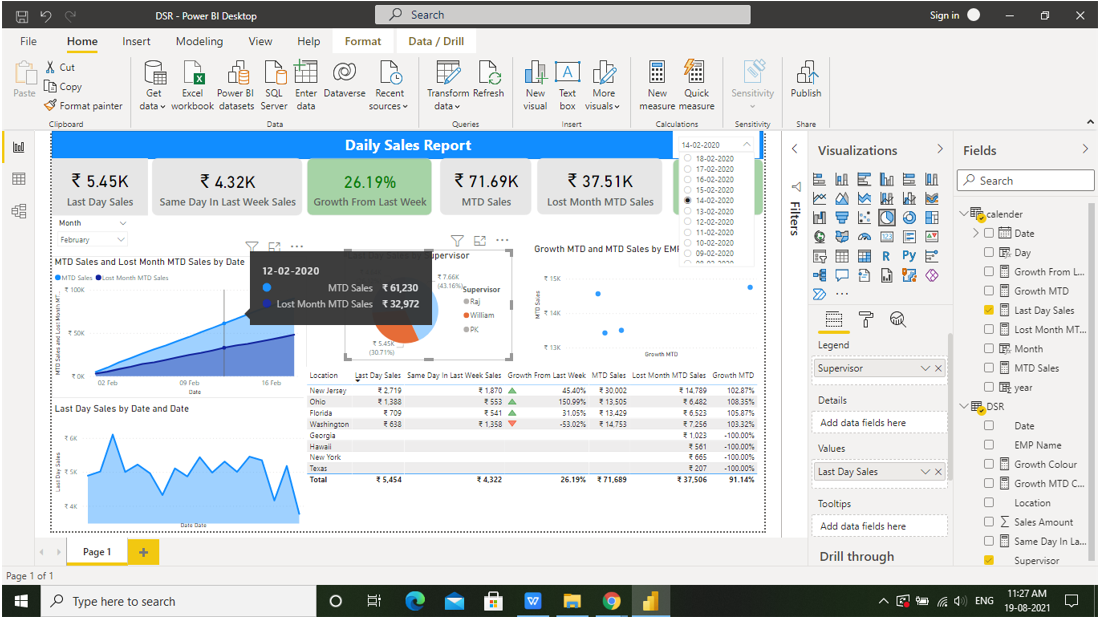

The dashboard page shown, as its layout file describes it:
{"tool":"powerbi","page":{"name":"Page 1","canvas":[1280,720],"ordinal":0},"visuals":[{"type":"shape","box":[0,0,1279.8,50.5],"z":0},{"type":"card","fields":{"Values":["calender.last day sales"]},"box":[0,49.7,173.2,103.3],"z":0,"group":"g1"},{"type":"textbox","box":[453.1,0,375.2,57.7],"z":1000},{"type":"card","fields":{"Values":["DSR.same day in last week sales"]},"box":[180.8,49.7,270,103.3],"z":1000,"group":"g1"},{"type":"card","fields":{"Values":["calender.Growth from last week"]},"box":[458.4,49.7,224.5,103.3],"z":2000,"group":"g1"},{"type":"group","id":"g1","title":"Group 1","box":[0,49.1,1279.8,103.9],"z":2000},{"type":"card","fields":{"Values":["calender.MTD Sales"]},"box":[699,49.1,164.4,102.1],"z":3000,"group":"g1"},{"type":"slicer","fields":{"Values":["calender.Date"]},"box":[1116.8,0,155.8,49.1],"z":3000},{"type":"card","fields":{"Values":["calender.Lost Month MTD Sales"]},"box":[873.3,49.7,224.5,101],"z":4000,"group":"g1"},{"type":"areaChart","fields":{"Category":["calender.Date"],"Y":["calender.MTD Sales","calender.Lost Month MTD Sales"]},"box":[0,225.1,458.8,255.4],"z":4000},{"type":"card","fields":{"Values":["calender.Growth MTD"]},"box":[1116.9,50.3,162.9,101],"z":5000,"group":"g1"},{"type":"slicer","fields":{"Values":["calender.Month"]},"box":[0,152.9,147.2,70.7],"z":5000},{"type":"areaChart","fields":{"Category":["calender.Date","calender.Date"],"Y":["calender.Last Day Sales"]},"box":[0,489.1,458.8,230.9],"z":6000},{"type":"scatterChart","fields":{"Category":["DSR.EMP Name"],"X":["calender.Growth MTD"],"Y":["calender.MTD Sales"]},"box":[862.8,202,409.8,210.7],"z":7000},{"type":"pieChart","fields":{"Category":["DSR.Supervisor"],"Y":["calender.Last Day Sales"]},"box":[526.7,213.5,301.6,199.1],"z":8000},{"type":"tableEx","fields":{"Values":["DSR.Location","calender.Last Day Sales","DSR.Same Day In Last Week Sales","calender.Growth From Last Week","calender.MTD Sales","calender.Lost Month MTD Sales","calender.Growth MTD"]},"box":[453.1,424.2,826.8,253.9],"z":8001}]}

Visuals, with their boxes in screenshot pixels (x1, y1, x2, y2):
shape: x1=46, y1=26, x2=1096, y2=67
card - calender.last day sales: x1=46, y1=67, x2=188, y2=151
textbox: x1=418, y1=26, x2=726, y2=73
card - DSR.same day in last week sales: x1=194, y1=67, x2=416, y2=151
card - calender.Growth from last week: x1=422, y1=67, x2=606, y2=151
"Group 1" group: x1=46, y1=66, x2=1096, y2=151
card - calender.MTD Sales: x1=619, y1=66, x2=754, y2=150
slicer - calender.Date: x1=962, y1=26, x2=1090, y2=66
card - calender.Lost Month MTD Sales: x1=762, y1=67, x2=947, y2=149
areaChart - calender.Date x calender.MTD Sales: x1=46, y1=210, x2=422, y2=420
card - calender.Growth MTD: x1=962, y1=67, x2=1096, y2=150
slicer - calender.Month: x1=46, y1=151, x2=167, y2=209
areaChart - calender.Date x calender.Date: x1=46, y1=427, x2=422, y2=617
scatterChart - DSR.EMP Name x calender.Growth MTD: x1=754, y1=192, x2=1090, y2=364
pieChart - DSR.Supervisor x calender.Last Day Sales: x1=478, y1=201, x2=726, y2=364
tableEx - DSR.Location x calender.Last Day Sales: x1=418, y1=374, x2=1096, y2=582
